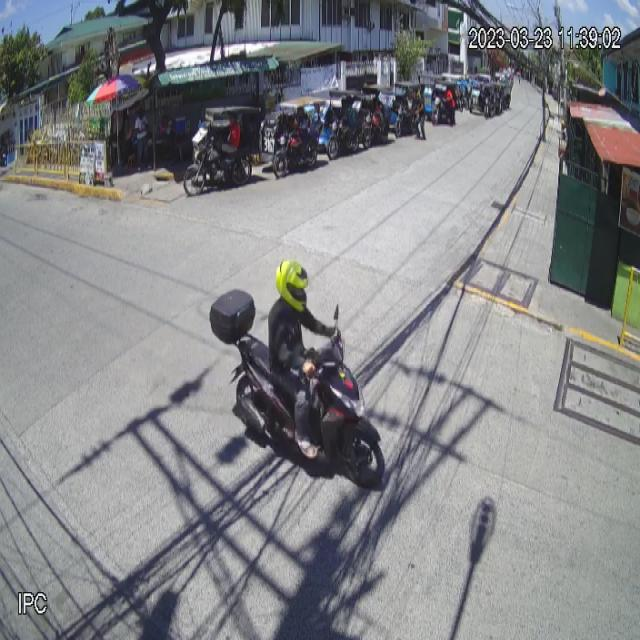Motorcycle: (209, 288, 385, 492)
